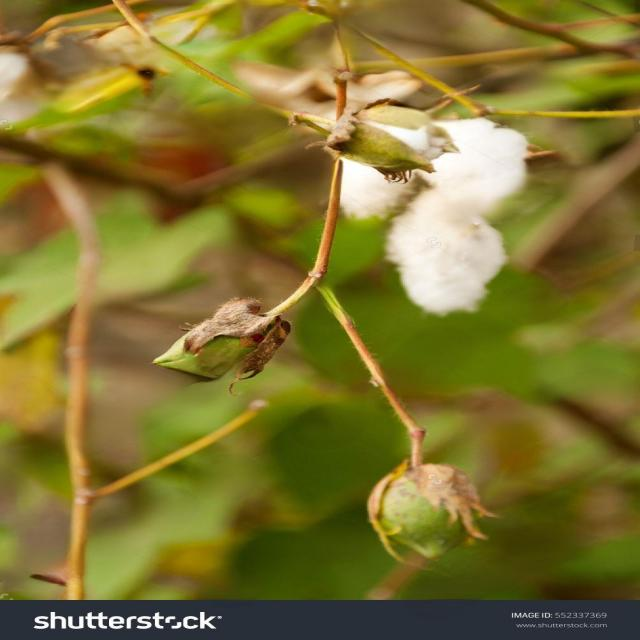Leaf: (309, 80, 559, 332)
